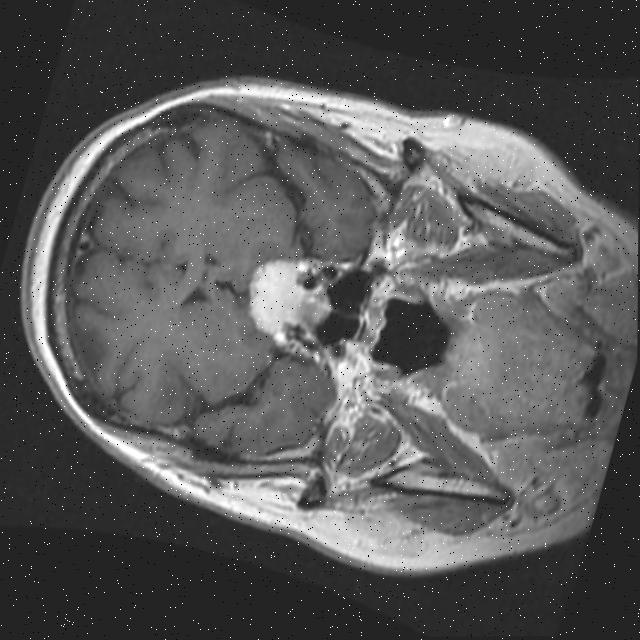Pituitary: (237, 252, 312, 340), (298, 279, 337, 332)
